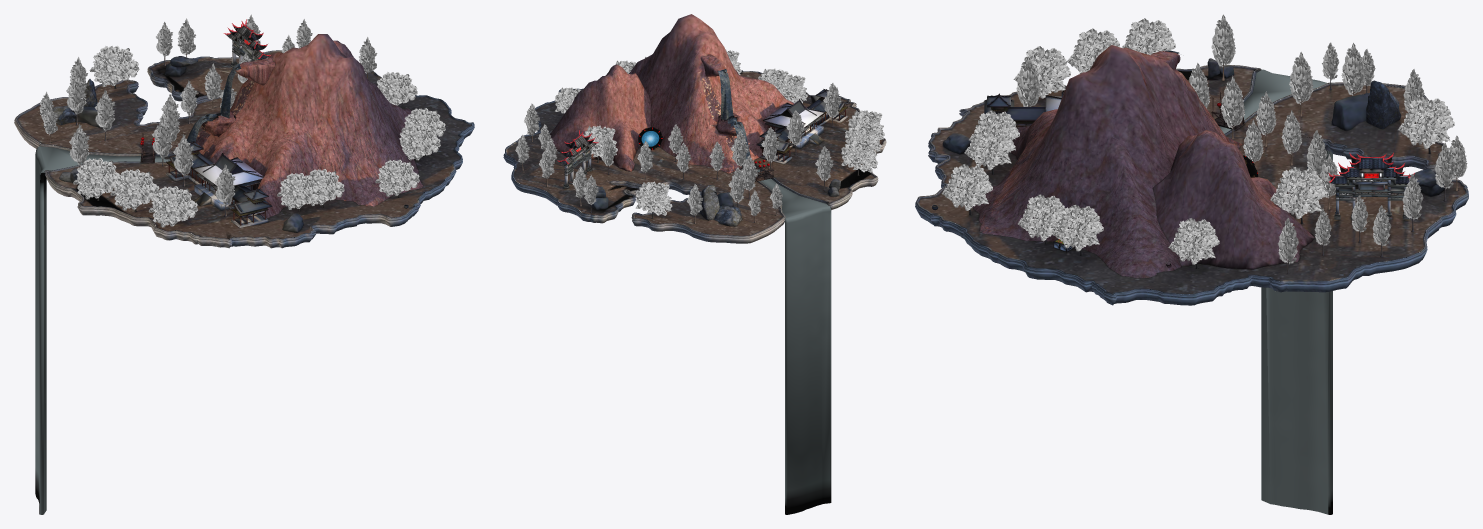
The model's file is chinese_island4.gltf.
3 renders of one model, left to right at view 1: azimuth 30°, elevation 25°; view 2: azimuth 150°, elevation 25°; view 3: azimuth 270°, elevation 25°, orthographic. The views are drawn at different scales.
Parts seen in each view (by area): view 1: G-__555960, G-__555951, G-__555924, G-__555942.001, G-__555987, AM113_032_fraxinus_Defintion1.010, AM113_032_fraxinus_Defintion1.007, AM113_032_fraxinus_Defintion1.009, AM113_032_fraxinus_Defintion1.008, AM113_032_fraxinus_Defintion1.003, AM113_032_fraxinus_Defintion1.005, AM113_032_fraxinus_Defintion1.002 (+11 smaller); view 2: G-__555942.001, G-__555951, G-__555960, G-__555609, G-__555924, G-__555987, AM113_032_fraxinus_Defintion1.008, AM113_032_fraxinus_Defintion1.007, AM113_032_fraxinus_Defintion1.005, AM113_032_fraxinus_Defintion1.009, AM113_032_fraxinus_Defintion1.006, G-__555969 (+3 smaller); view 3: G-__555960, G-__555951, G-__555942.001, G-__555609, G-__555924, AM113_032_fraxinus_Defintion1.007, AM113_032_fraxinus_Defintion1.006, AM113_032_fraxinus_Defintion1, AM113_032_fraxinus_Defintion1.004, AM113_032_fraxinus_Defintion1.001, AM113_032_fraxinus_Defintion1.003, AM113_032_fraxinus_Defintion1.010 (+20 smaller).
Part boxes in pixels (left/top/right/bottom): G-__555960: left=176, top=34, right=423, bottom=218; G-__555951: left=17, top=52, right=470, bottom=239; G-__555924: left=14, top=50, right=474, bottom=248; G-__555942.001: left=35, top=146, right=170, bottom=514; G-__555987: left=164, top=141, right=272, bottom=227; AM113_032_fraxinus_Defintion1.010: left=148, top=186, right=197, bottom=227; AM113_032_fraxinus_Defintion1.007: left=89, top=45, right=139, bottom=86; AM113_032_fraxinus_Defintion1.009: left=110, top=169, right=159, bottom=210; AM113_032_fraxinus_Defintion1.008: left=73, top=158, right=121, bottom=199; AM113_032_fraxinus_Defintion1.003: left=375, top=159, right=419, bottom=196; AM113_032_fraxinus_Defintion1.005: left=277, top=173, right=321, bottom=209; AM113_032_fraxinus_Defintion1.002: left=399, top=124, right=440, bottom=160; G-__555942.001: left=755, top=166, right=831, bottom=514; G-__555951: left=506, top=72, right=883, bottom=235; G-__555960: left=629, top=14, right=807, bottom=173; G-__555609: left=549, top=64, right=650, bottom=171; G-__555924: left=503, top=71, right=886, bottom=243; G-__555987: left=756, top=89, right=849, bottom=164; AM113_032_fraxinus_Defintion1.008: left=841, top=138, right=877, bottom=172; AM113_032_fraxinus_Defintion1.007: left=635, top=181, right=672, bottom=215; AM113_032_fraxinus_Defintion1.005: left=775, top=74, right=807, bottom=103; AM113_032_fraxinus_Defintion1.009: left=845, top=122, right=881, bottom=153; AM113_032_fraxinus_Defintion1.006: left=582, top=125, right=617, bottom=158; G-__555969: left=699, top=184, right=719, bottom=220; G-__555960: left=972, top=45, right=1242, bottom=278; G-__555951: left=919, top=66, right=1465, bottom=293; G-__555942.001: left=1219, top=69, right=1332, bottom=514; G-__555609: left=1152, top=130, right=1315, bottom=269; G-__555924: left=915, top=64, right=1468, bottom=305; AM113_032_fraxinus_Defintion1.007: left=1397, top=96, right=1454, bottom=148; AM113_032_fraxinus_Defintion1.006: left=1270, top=166, right=1326, bottom=218; AM113_032_fraxinus_Defintion1: left=1052, top=204, right=1103, bottom=251; AM113_032_fraxinus_Defintion1.004: left=964, top=123, right=1015, bottom=170; AM113_032_fraxinus_Defintion1.001: left=1168, top=217, right=1219, bottom=264; AM113_032_fraxinus_Defintion1.003: left=941, top=164, right=992, bottom=210; AM113_032_fraxinus_Defintion1.010: left=1013, top=46, right=1071, bottom=98.
Bounding box in the file's own units: 60.2 × 70.31 × 60.
